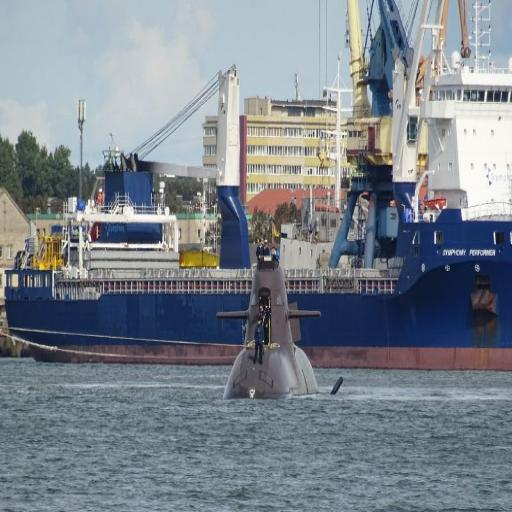submarine: (209, 237, 349, 398)
